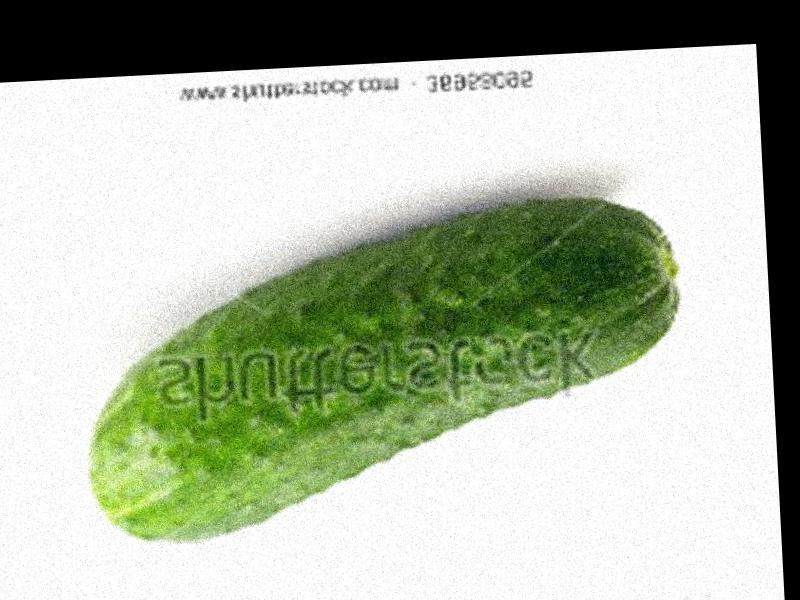Cucumber: (77, 190, 689, 548)
